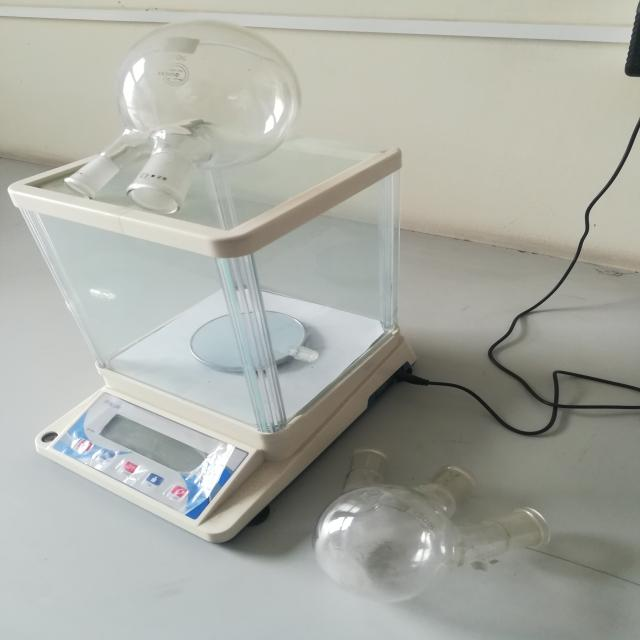Round_Bottom_Flask_Borosilicate_Glass_2_Neck: (41, 10, 330, 239)
Round_Bottom_Flask_Borosilicate_Glass_3_Neck: (274, 382, 568, 612)
